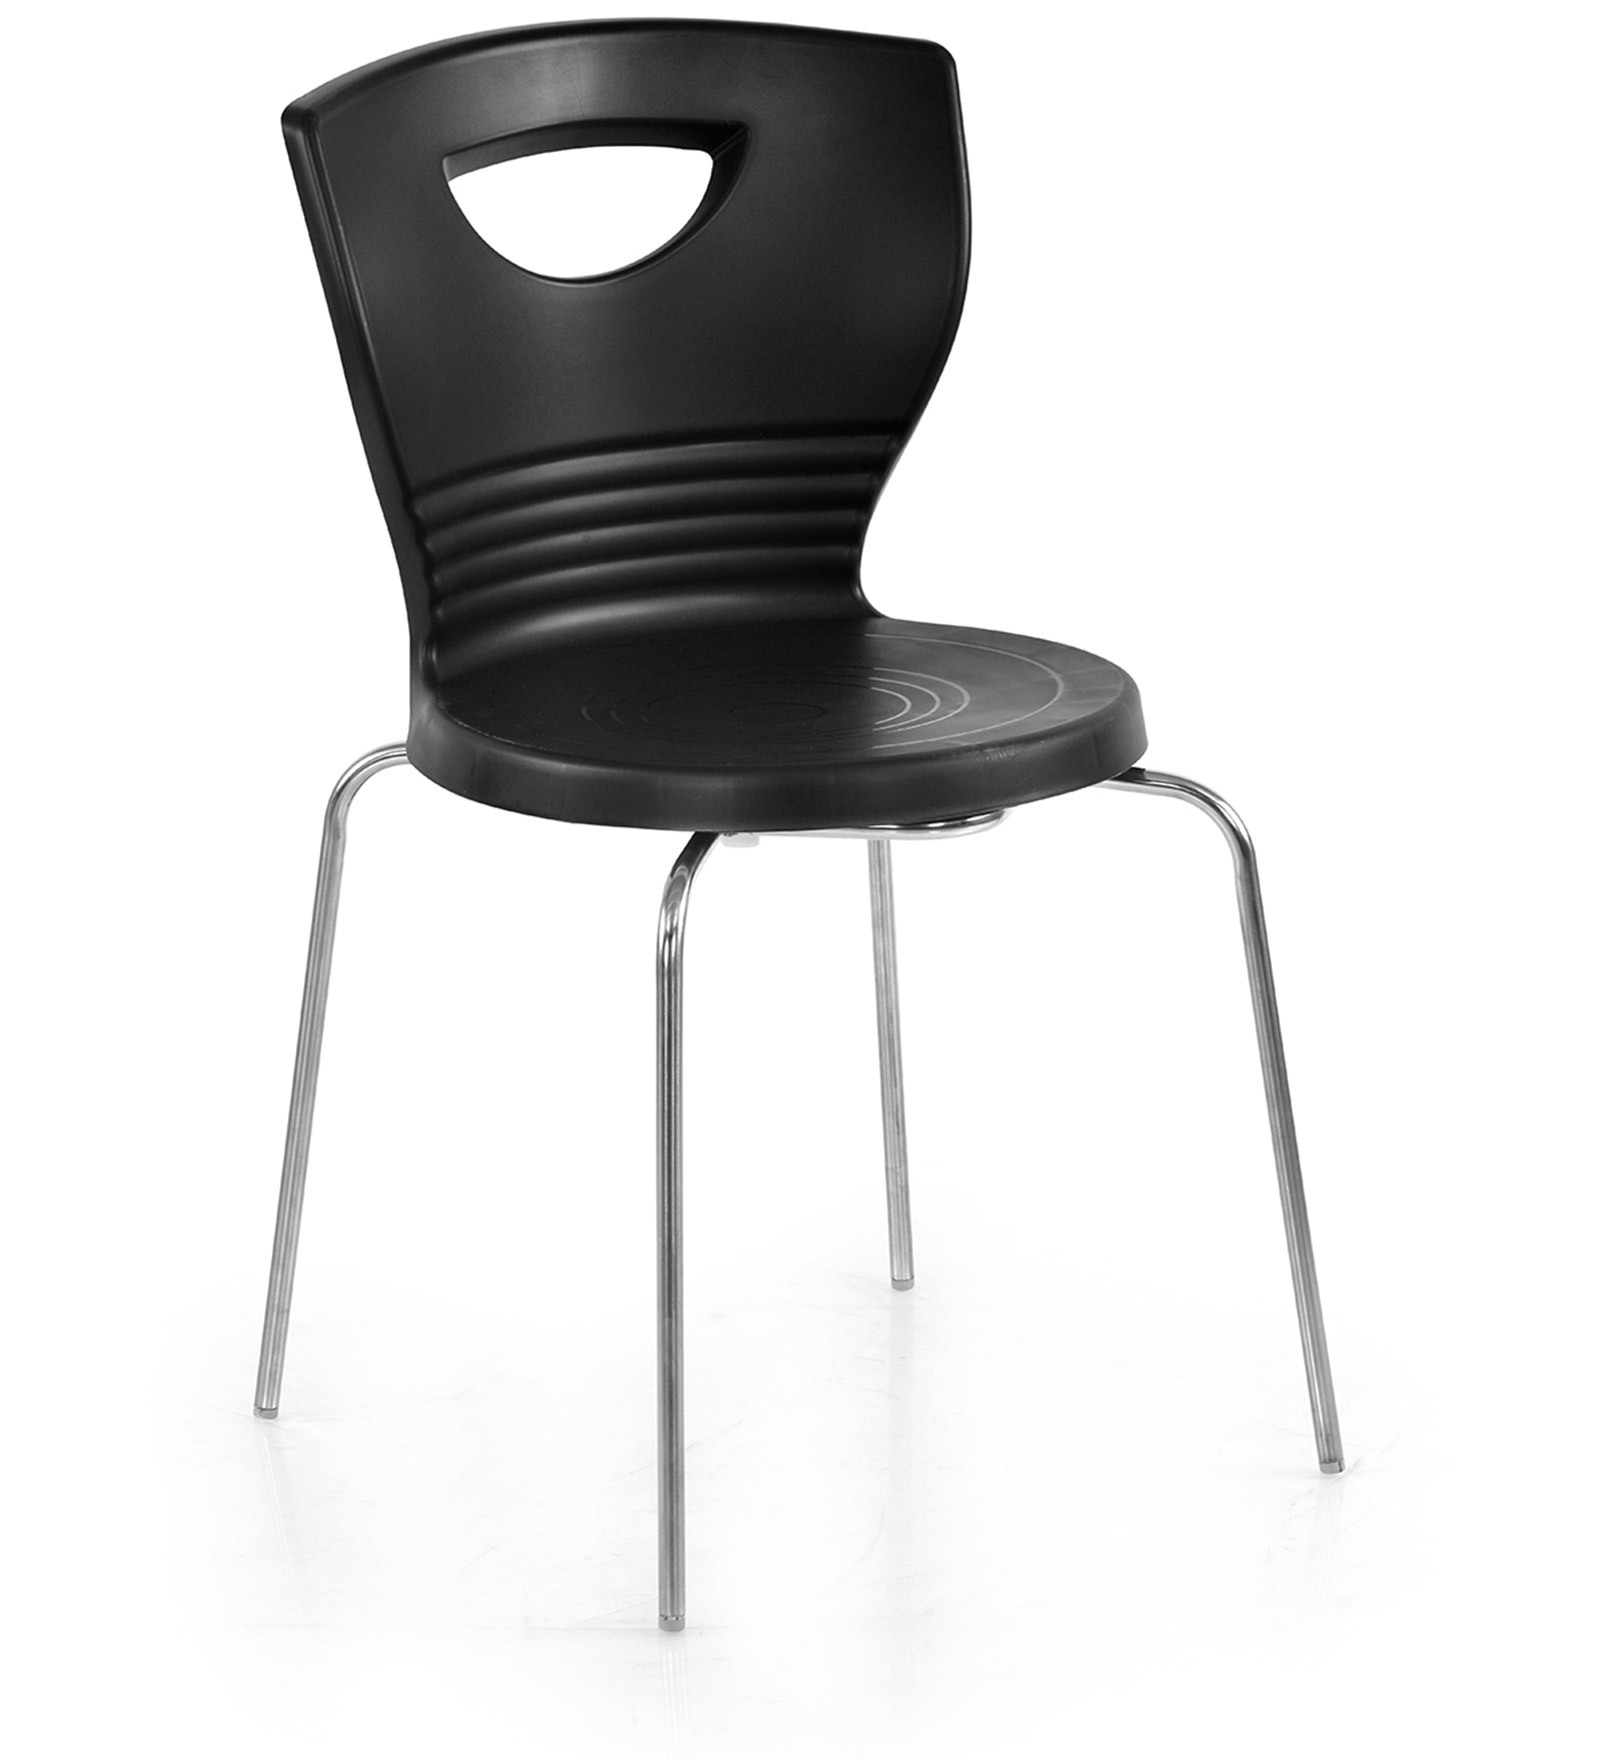Novella Series - 15 (Set of 2) Chairs in Black Color by Nilkamal: (262, 17, 1366, 1637)
